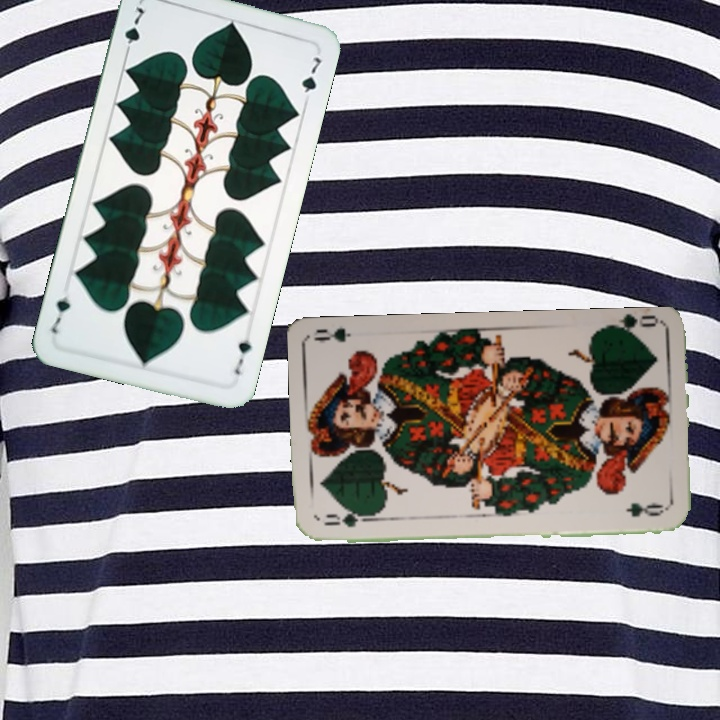G7: (120, 3, 147, 59), (230, 335, 254, 378)
GO: (602, 313, 661, 341), (320, 508, 376, 530)
